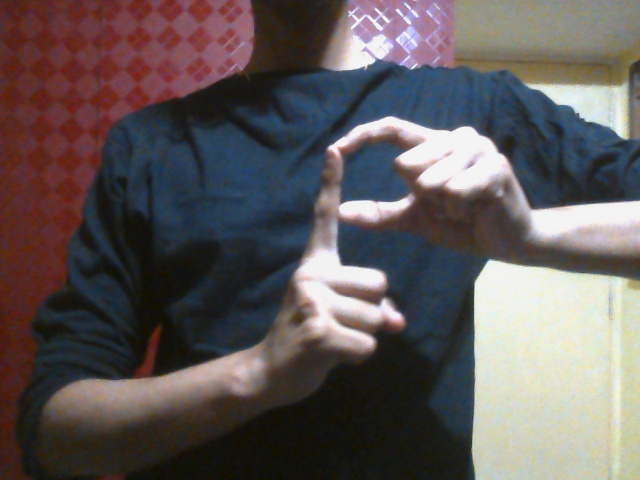P: (268, 114, 472, 405)
